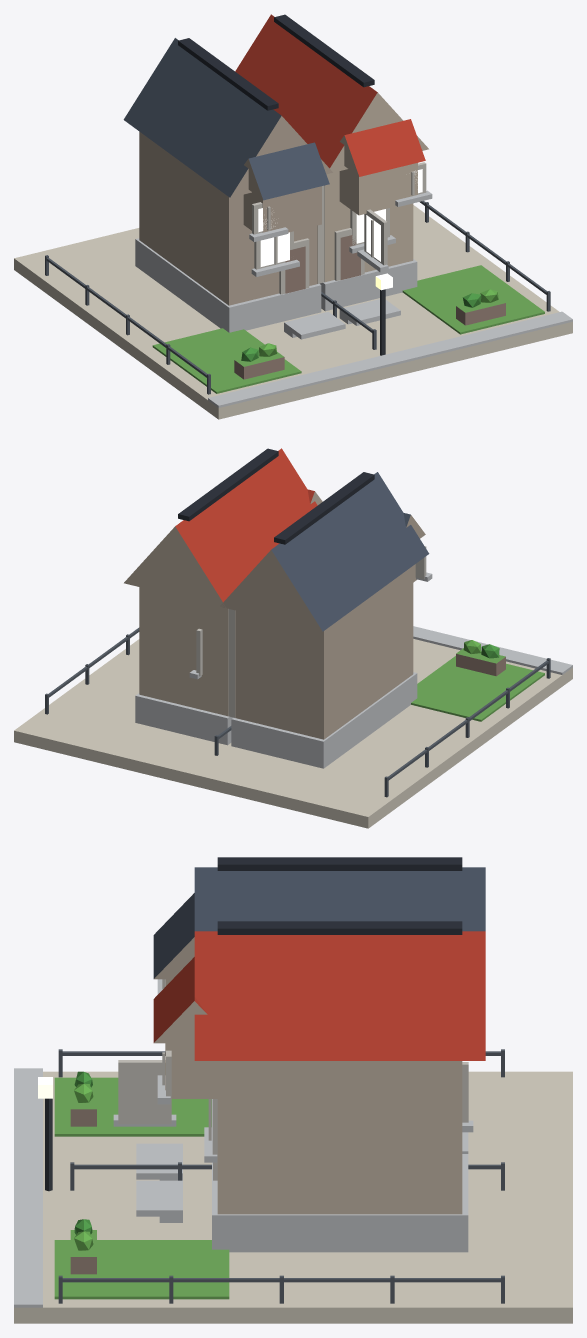
The picture shows the model from 3 angles, top to bottom: view 1: azimuth 30°, elevation 25°; view 2: azimuth 150°, elevation 25°; view 3: azimuth 270°, elevation 25°; orthographic projection. The views are drawn at different scales.
Parts seen in each view (by area): view 1: b04_v2; view 2: b04_v2; view 3: b04_v2.
Boxes of the visible parts, x1=… form: b04_v2: x1=14, y1=14, x2=572, y2=419; b04_v2: x1=14, y1=448, x2=572, y2=828; b04_v2: x1=14, y1=857, x2=572, y2=1323.
Bounding box in the file's own units: 0.96 × 0.592 × 0.96.
